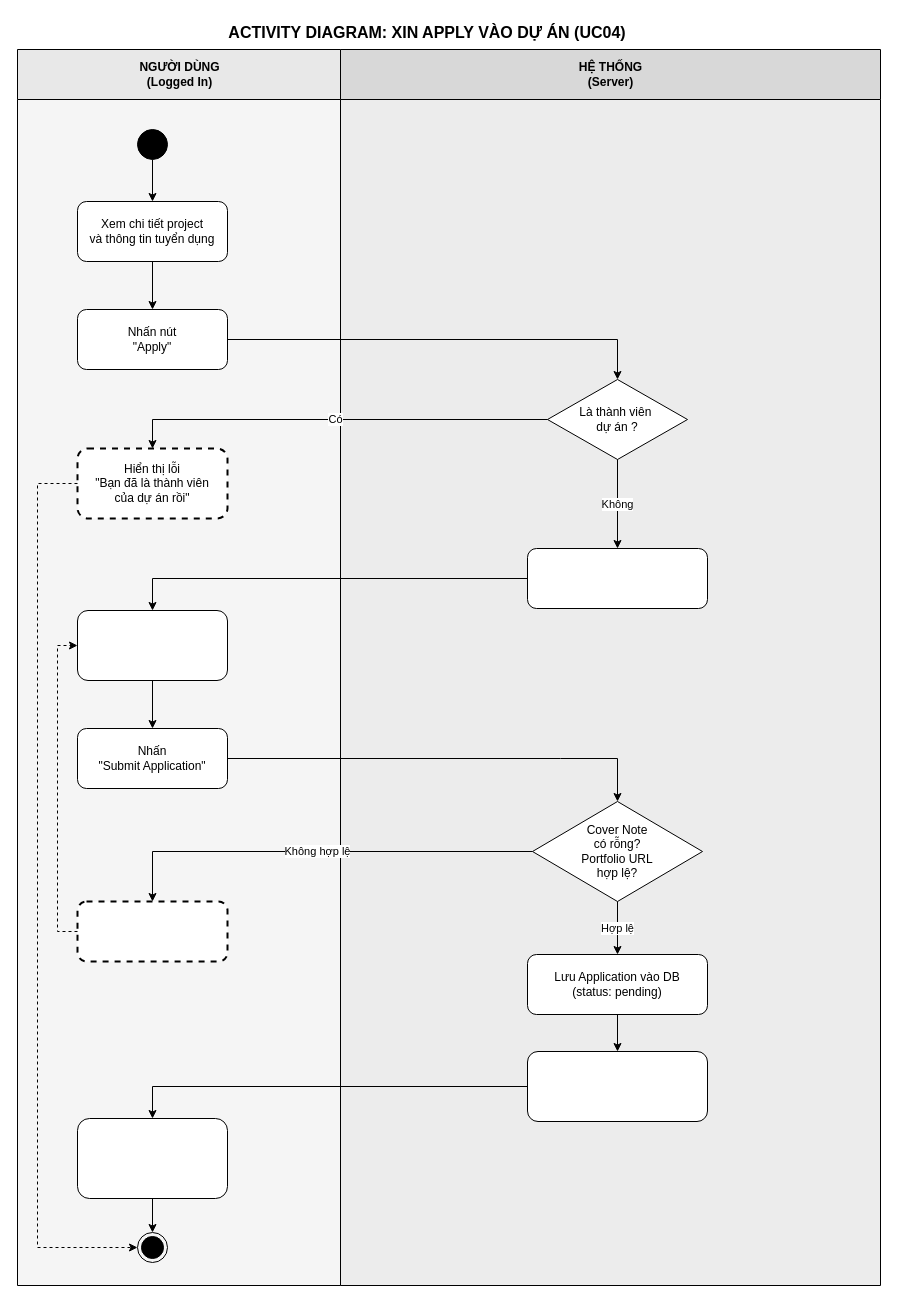
The diagram is 898 pixels wide and 1303 high, and some of its shapes have lost their labels. The box of each missing label's shape, as (x1, y1, x2, y2) in pixels:
Gửi thông báo đến owner/admin của project Log activity: (526, 1050, 708, 1122)
Hiển thị lỗi "URL không hợp lệ": (76, 900, 228, 962)
Hiển thị popup nhập thông tin apply: (526, 548, 708, 608)
Hiển thị thông báo "Application submitted successfully!": (76, 1118, 228, 1198)
Nhập Cover Note và Portfolio URL (optional): (76, 610, 228, 680)
